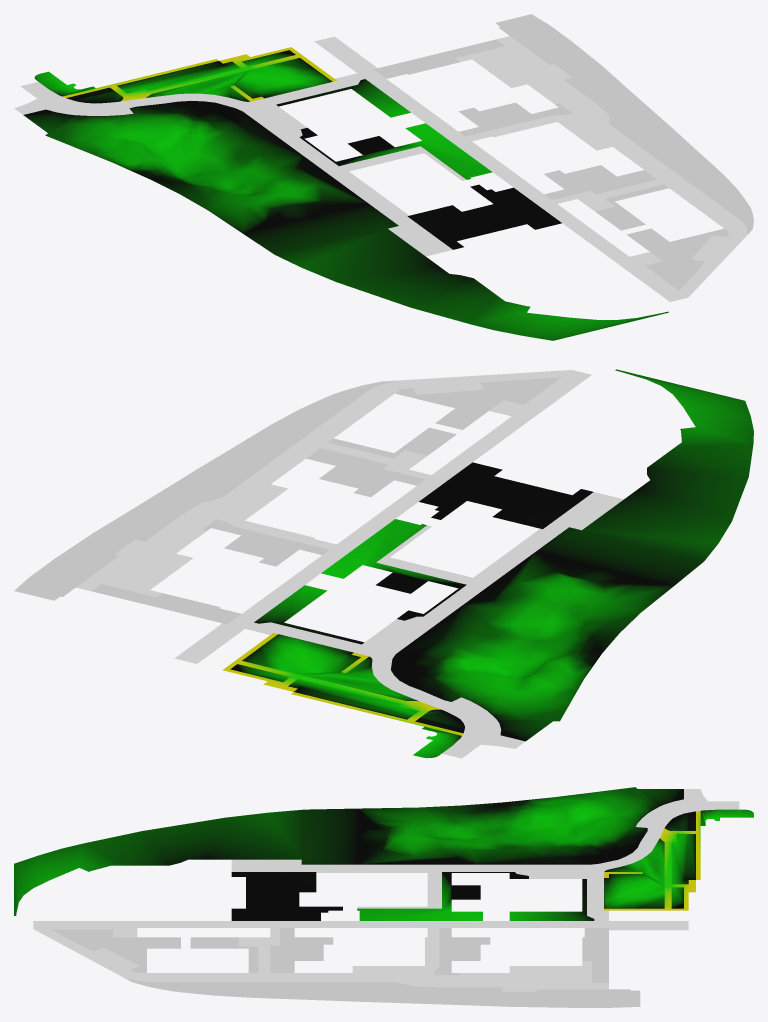
Rendered from terrains.fbx.
3 renders of one model, top to bottom at view 1: azimuth 30°, elevation 25°; view 2: azimuth 150°, elevation 25°; view 3: azimuth 270°, elevation 25°, orthographic. The views are drawn at different scales.
Visible parts, largest first — view 1: asphalt, terrain_2, terrain_3, terrain_4, terrain_5, terrain_1; view 2: asphalt, terrain_2, terrain_3, terrain_4, terrain_5, terrain_1; view 3: asphalt, terrain_2, terrain_3, terrain_4, terrain_5, terrain_1.
Boxes of the visible parts, x1,y1,x2,y2 form: asphalt: [14, 36, 746, 301]; terrain_2: [23, 79, 492, 233]; terrain_3: [244, 184, 668, 340]; terrain_4: [544, 129, 753, 290]; terrain_5: [374, 14, 673, 139]; terrain_1: [34, 47, 336, 103]; asphalt: [76, 370, 623, 758]; terrain_2: [254, 519, 673, 741]; terrain_3: [419, 369, 753, 585]; terrain_4: [197, 377, 561, 497]; terrain_5: [14, 469, 328, 624]; terrain_1: [222, 633, 464, 758]; asphalt: [33, 789, 739, 991]; terrain_2: [357, 787, 683, 920]; terrain_3: [14, 808, 357, 920]; terrain_4: [51, 928, 357, 1001]; terrain_5: [357, 928, 640, 1007]; terrain_1: [604, 809, 753, 910].
Bounding box in the file's own units: 21600 × 615 × 30600.
